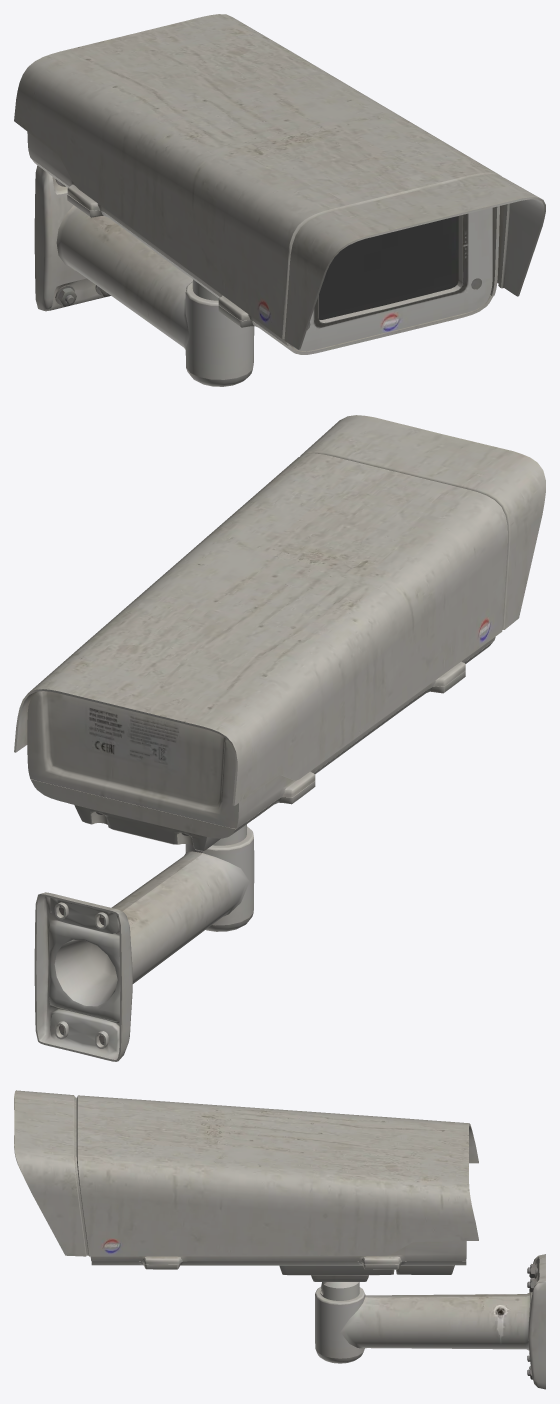
The model's file is security_camera_02_1k.glb.
The picture shows the model from 3 angles, top to bottom: view 1: azimuth 30°, elevation 25°; view 2: azimuth 150°, elevation 25°; view 3: azimuth 270°, elevation 25°; orthographic projection. The views are drawn at different scales.
Parts seen in each view (by area): view 1: security_camera_02, security_camera_02_mount; view 2: security_camera_02, security_camera_02_mount; view 3: security_camera_02, security_camera_02_mount.
Part boxes in pixels (<box>): security_camera_02: <box>14,14,545,354</box>; security_camera_02_mount: <box>34,165,254,386</box>; security_camera_02: <box>14,415,545,851</box>; security_camera_02_mount: <box>34,824,254,1061</box>; security_camera_02: <box>14,1090,478,1294</box>; security_camera_02_mount: <box>315,1254,545,1389</box>.
Bounding box in the file's own units: 0.1406 × 0.2086 × 0.3938.
Materials: 2 (2 with a texture image).
